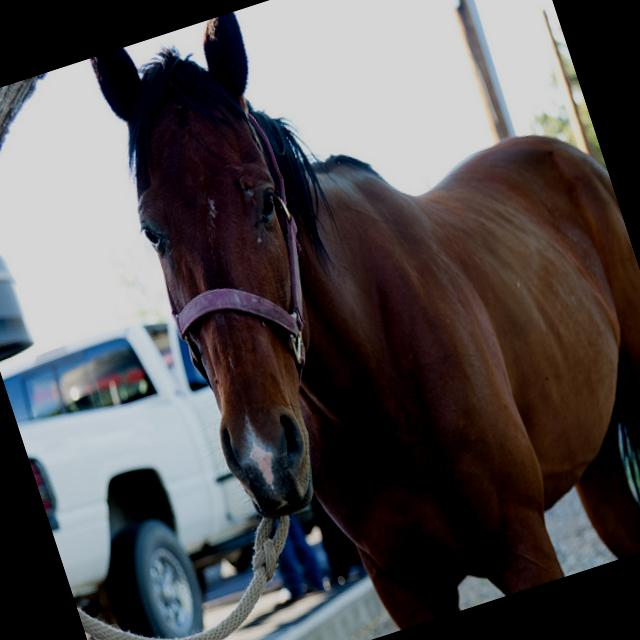Vehicle: (0, 290, 288, 640)
